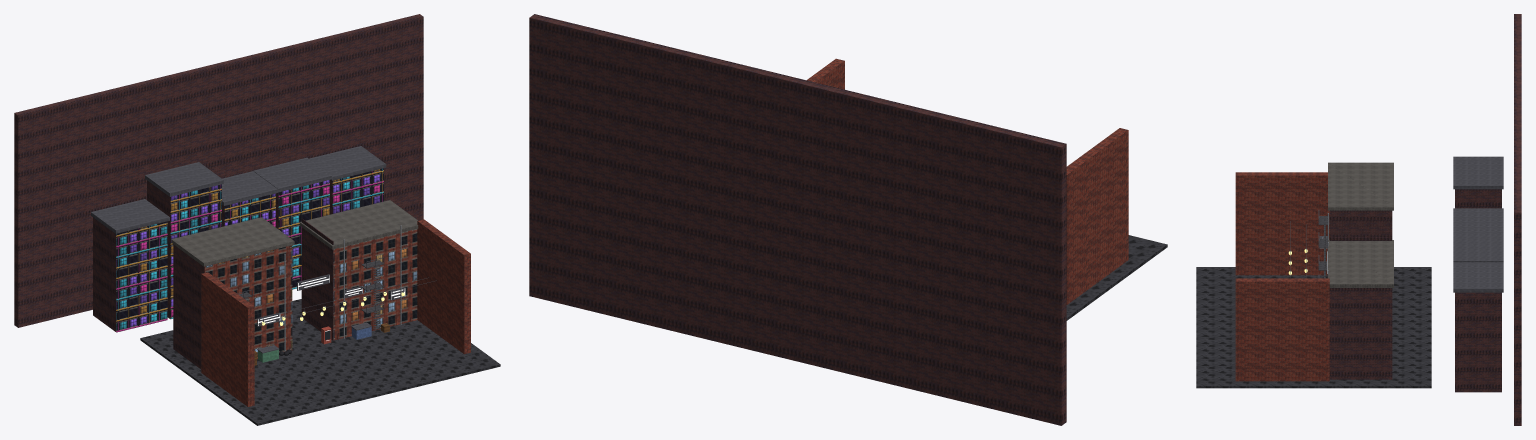
Rendered from stage2.glb.
The picture shows the model from 3 angles, left to right: view 1: azimuth 30°, elevation 25°; view 2: azimuth 150°, elevation 25°; view 3: azimuth 270°, elevation 25°; orthographic projection. The views are drawn at different scales.
Parts seen in each view (by area): view 1: Scenery; view 2: Scenery; view 3: Scenery.
Part boxes in pixels (left/top/right/bottom): Scenery: left=14, top=14, right=500, bottom=425; Scenery: left=529, top=14, right=1167, bottom=425; Scenery: left=1196, top=14, right=1521, bottom=425.
Size of the model in its own units: 60 by 30.3 by 41.5.
22 materials, 15 textured.
